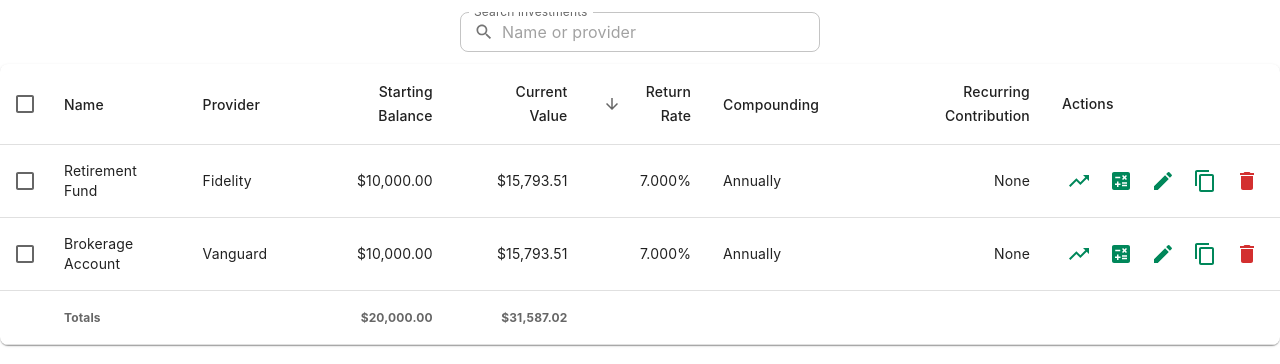
Test: InvestmentTable (roadmap 6.4) › filters rows by the search query (name or provider)
Type "vanguard" into the field labelled "Search investments". click: (661, 32)
box: top-left (502, 12), bottom-right (820, 52)
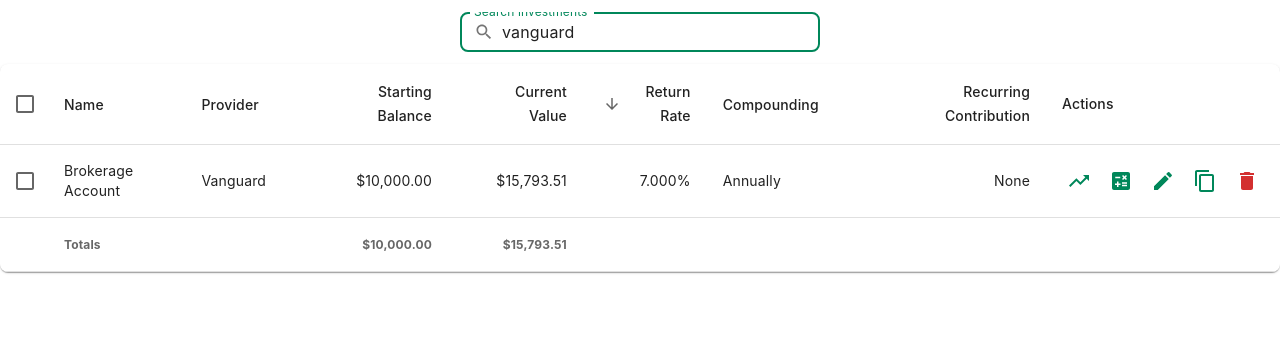
Check: the text "Brokerage Account" is shown, box top-left (48, 144), bottom-right (186, 218)
Check: the text "Retirement Fund" is gone
